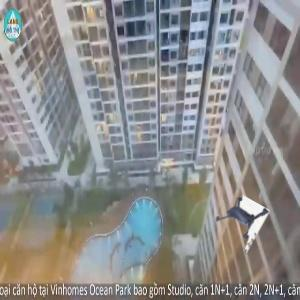drone: (205, 194, 263, 252)
